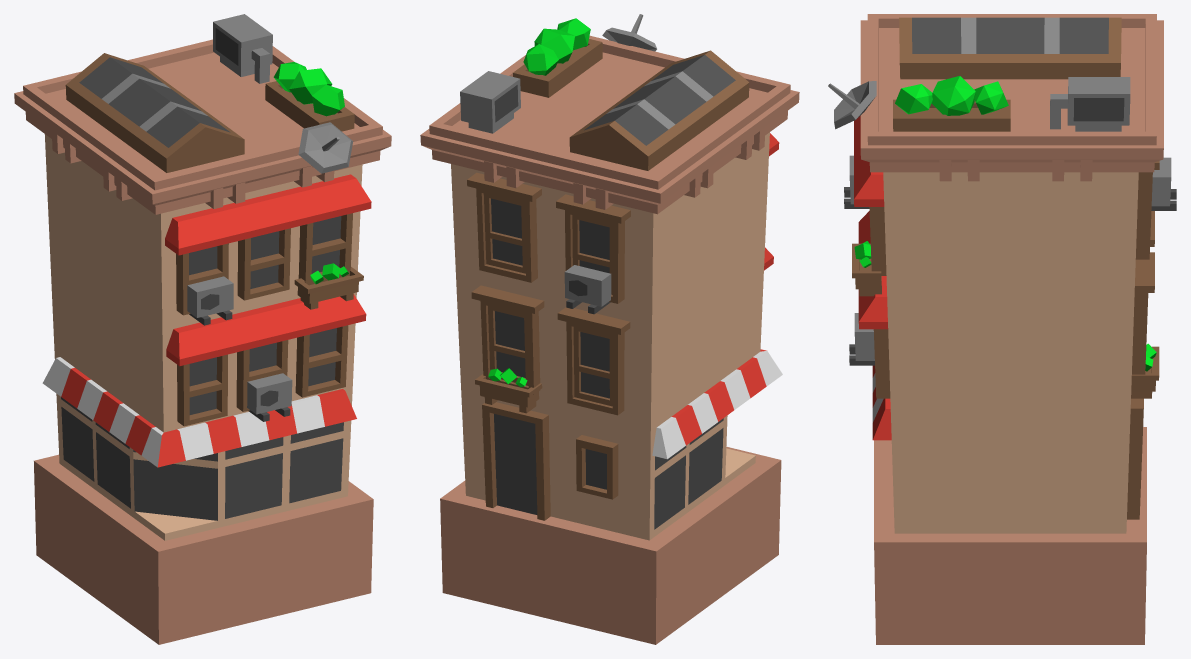
The model's file is Appartments_2.fbx.
The picture shows the model from 3 angles, left to right: view 1: azimuth 30°, elevation 25°; view 2: azimuth 150°, elevation 25°; view 3: azimuth 270°, elevation 25°; orthographic projection. The views are drawn at different scales.
Visible parts, largest first — view 1: SM_Bld_Apartments_04; view 2: SM_Bld_Apartments_04; view 3: SM_Bld_Apartments_04.
Boxes of the visible parts, <box> form: SM_Bld_Apartments_04: <box>14,14,391,644</box>; SM_Bld_Apartments_04: <box>420,14,799,644</box>; SM_Bld_Apartments_04: <box>828,14,1176,644</box>.
Size of the model in its own units: 106 by 213 by 122.
